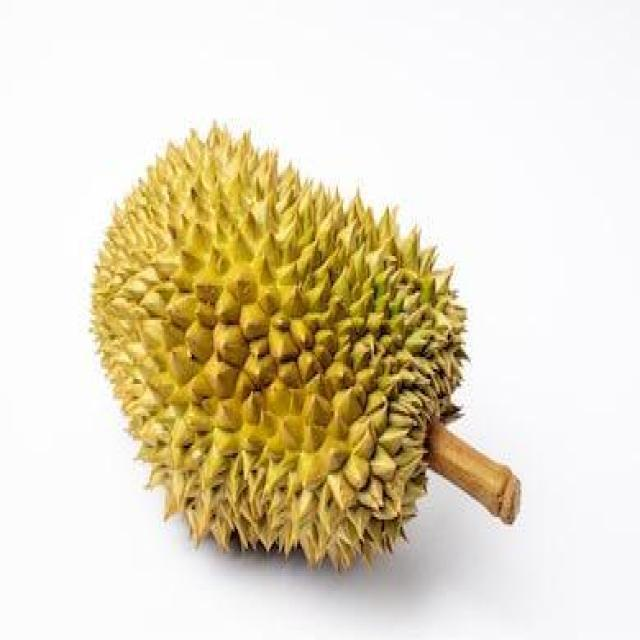mature: (92, 128, 465, 567)
